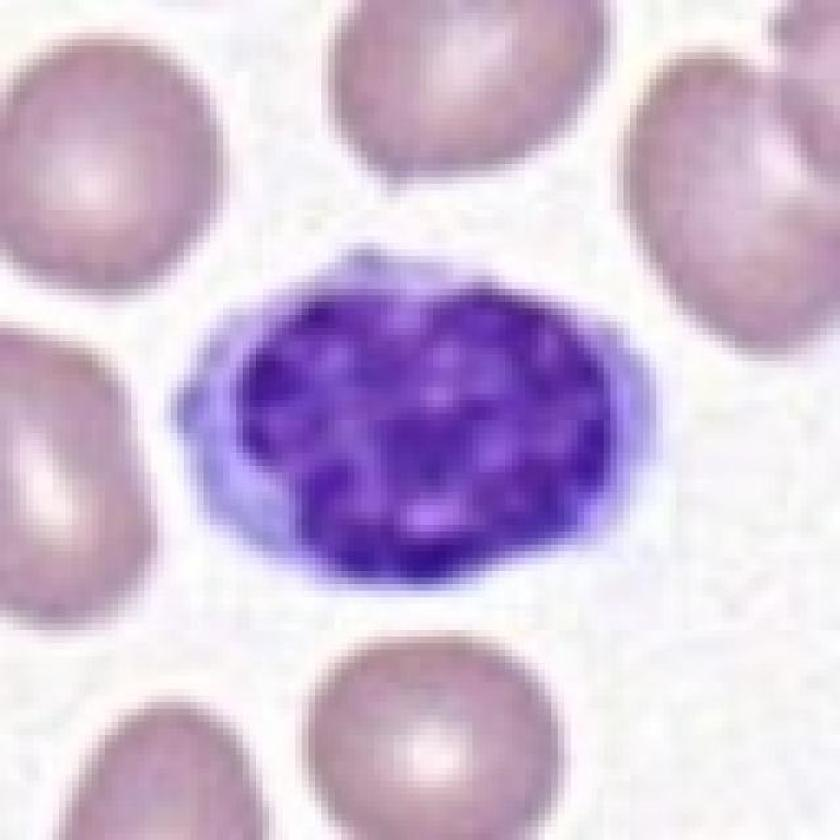lymphocyte: (169, 233, 672, 593)
